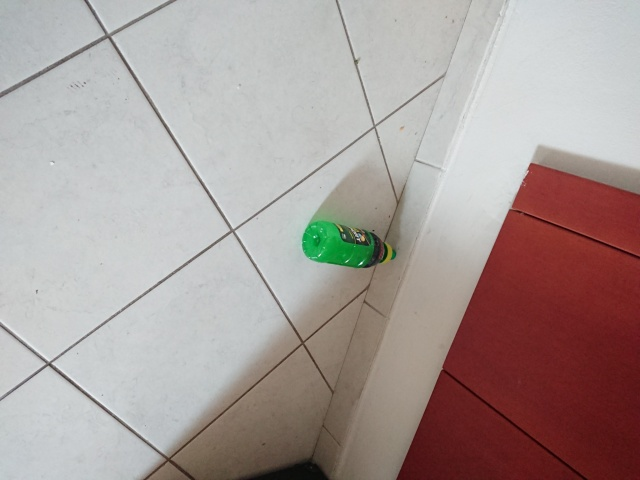Vindi Iso Sport Lemon-Grapefruit 500mL: (299, 219, 399, 272)
